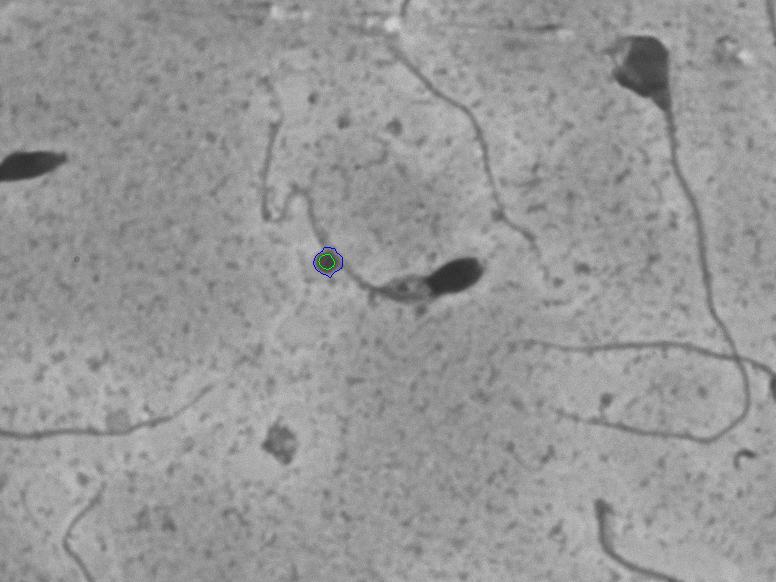Abnormal: (568, 26, 758, 336), (248, 101, 481, 341)
